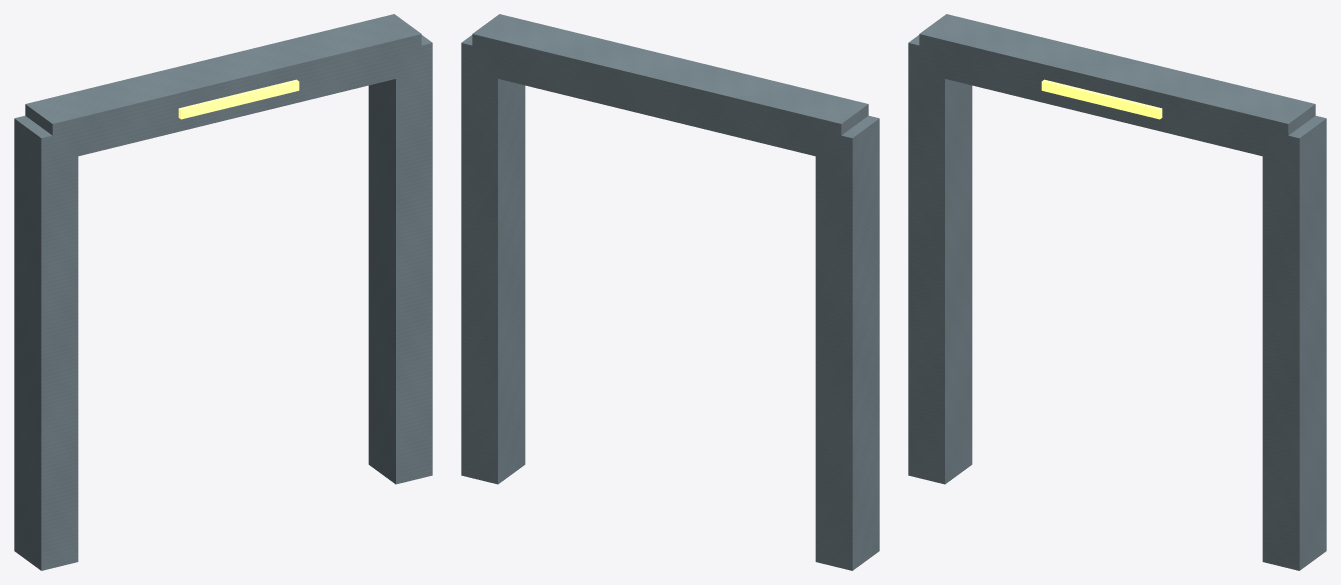
File: mine_support.gltf
3 views of the same model, side by side, from view 1: azimuth 30°, elevation 25°; view 2: azimuth 150°, elevation 25°; view 3: azimuth 330°, elevation 25° (orthographic).
Visible parts, largest first — view 1: Mine_Support; view 2: Mine_Support; view 3: Mine_Support.
Part boxes in pixels (x1,y1,x2,y2): Mine_Support: (14, 14, 432, 570); Mine_Support: (461, 14, 879, 570); Mine_Support: (908, 14, 1326, 570).
Bounding box in the file's own units: 2.65 × 2.88 × 0.355.
2 materials, 1 textured.
